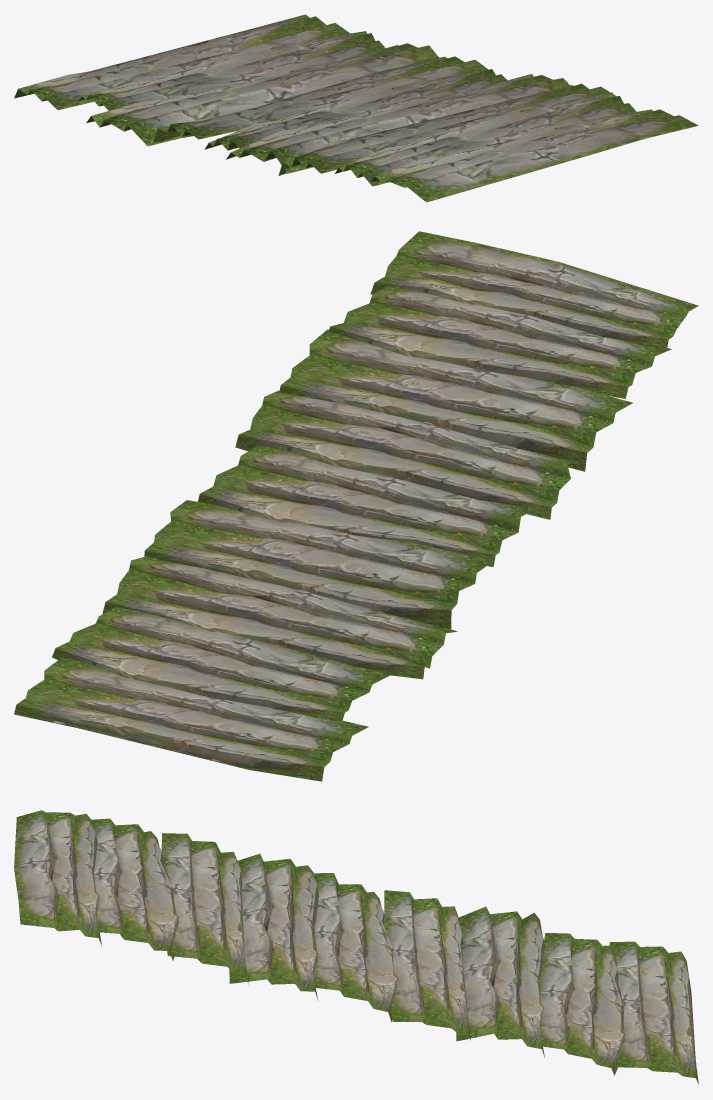
File: shijie.FBX
The picture shows the model from 3 angles, top to bottom: view 1: azimuth 30°, elevation 25°; view 2: azimuth 150°, elevation 25°; view 3: azimuth 270°, elevation 25°; orthographic projection. The views are drawn at different scales.
Visible parts, largest first — view 1: shijie; view 2: shijie; view 3: shijie.
Boxes of the visible parts, x1,y1,x2,y2 form: shijie: [14, 14, 698, 202]; shijie: [14, 231, 698, 781]; shijie: [14, 810, 698, 1084].
Size of the model in its own units: 6.41 by 3.63 by 13.77.
